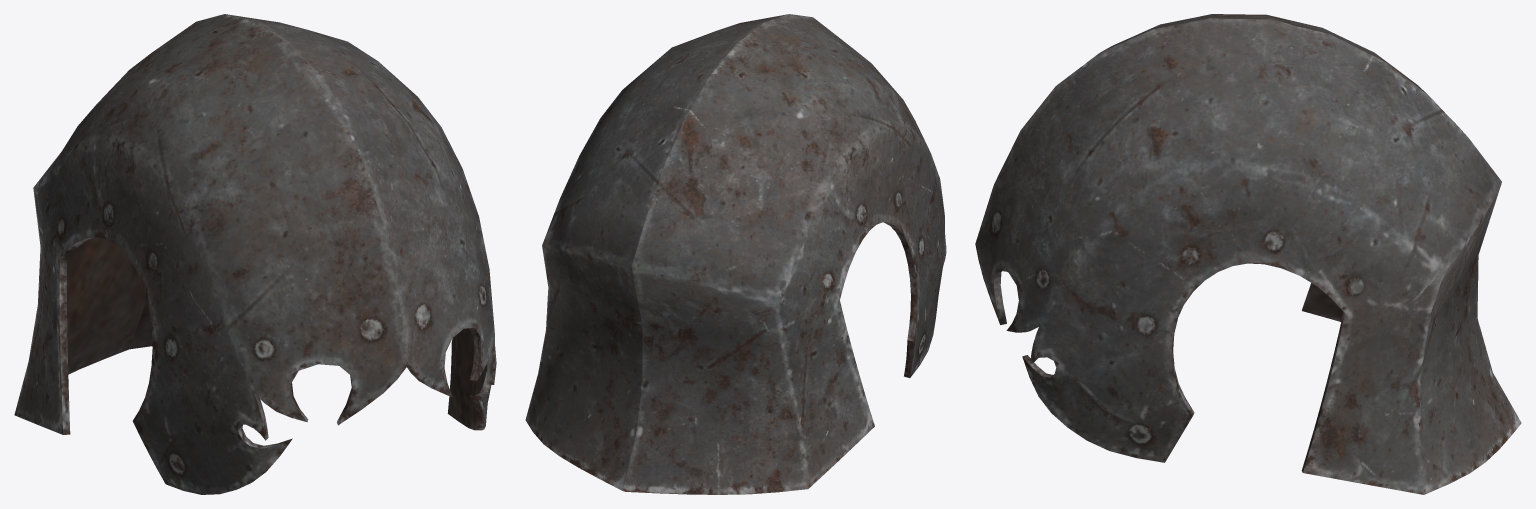
The model's file is sk_gb_uruk_helmet_light_d.fbx.
The picture shows the model from 3 angles, left to right: view 1: azimuth 30°, elevation 25°; view 2: azimuth 150°, elevation 25°; view 3: azimuth 270°, elevation 25°; orthographic projection. The views are drawn at different scales.
Visible parts, largest first — view 1: sk_gb_uruk_helmet_light_d; view 2: sk_gb_uruk_helmet_light_d; view 3: sk_gb_uruk_helmet_light_d.
Boxes of the visible parts, left/top/right/bottom form: sk_gb_uruk_helmet_light_d: left=14, top=14, right=496, bottom=494; sk_gb_uruk_helmet_light_d: left=525, top=14, right=946, bottom=494; sk_gb_uruk_helmet_light_d: left=975, top=14, right=1521, bottom=494.
Bounding box in the file's own units: 0.2123 × 0.2956 × 0.2435.
1 material, 1 textured.
